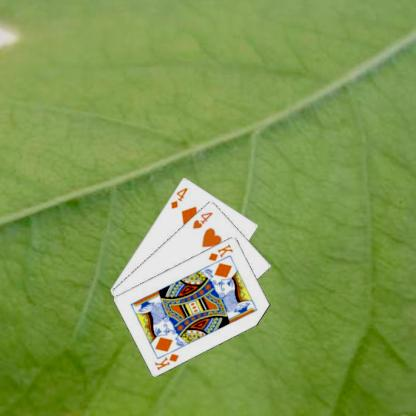4D: (168, 184, 189, 210)
4H: (190, 209, 214, 230)
KD: (206, 241, 234, 262), (152, 351, 180, 371)
